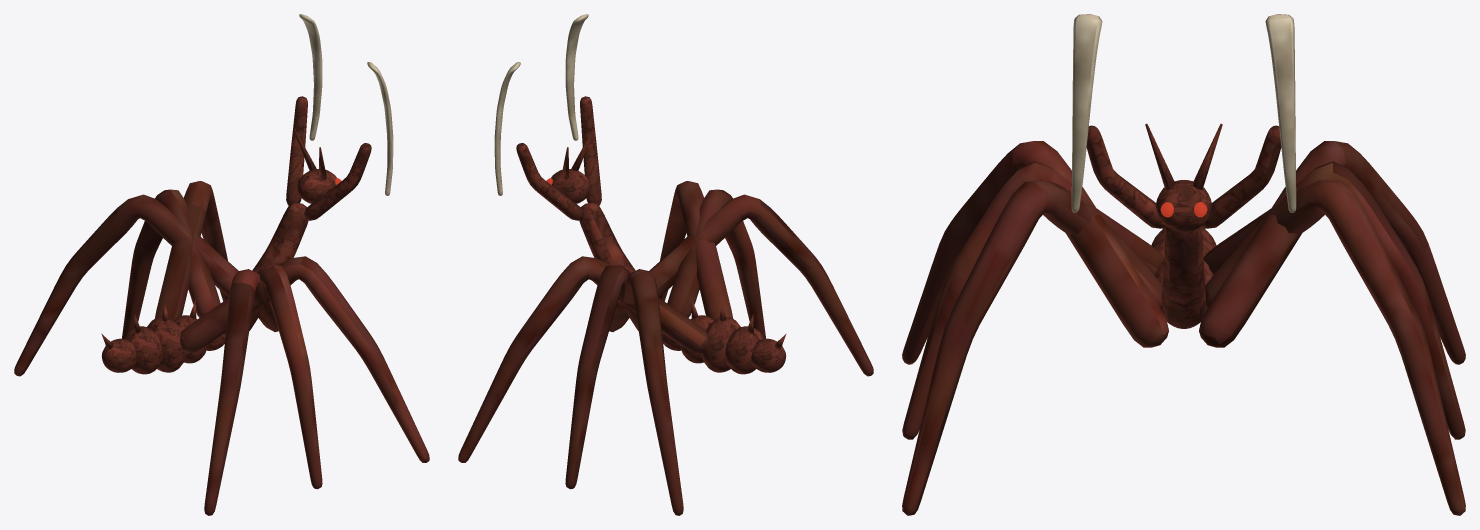
File: bug_hunter.glb
3 views of the same model, side by side, from view 1: azimuth 30°, elevation 25°; view 2: azimuth 150°, elevation 25°; view 3: azimuth 270°, elevation 25° (orthographic). The views are drawn at different scales.
Parts seen in each view (by area): view 1: bug_hunter; view 2: bug_hunter; view 3: bug_hunter.
Boxes of the visible parts, x1,y1,x2,y2 form: bug_hunter: (14, 14, 429, 515); bug_hunter: (458, 14, 873, 515); bug_hunter: (902, 14, 1465, 515).
Bounding box in the file's own units: 1.28 × 1.68 × 1.7.
Materials: 3 (2 with a texture image).
